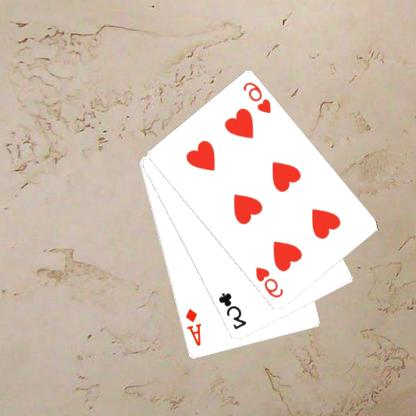3C: (217, 290, 250, 332)
6H: (242, 79, 274, 116), (254, 264, 286, 300)
AD: (184, 306, 205, 348)
